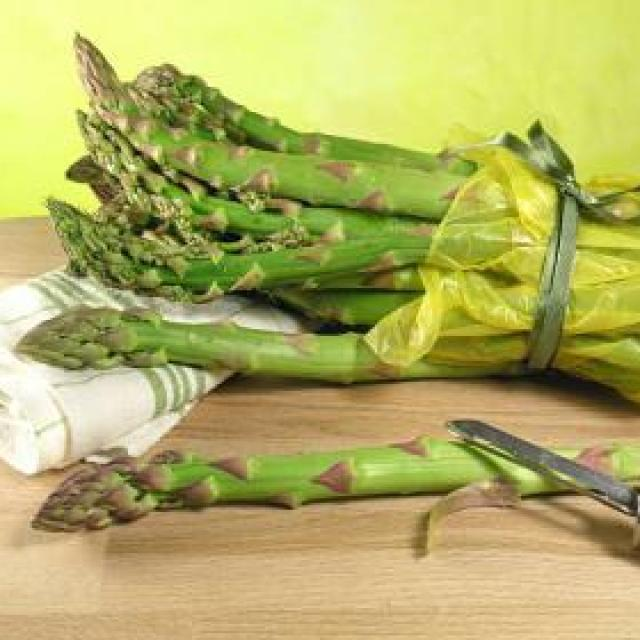knife: (443, 414, 640, 569)
